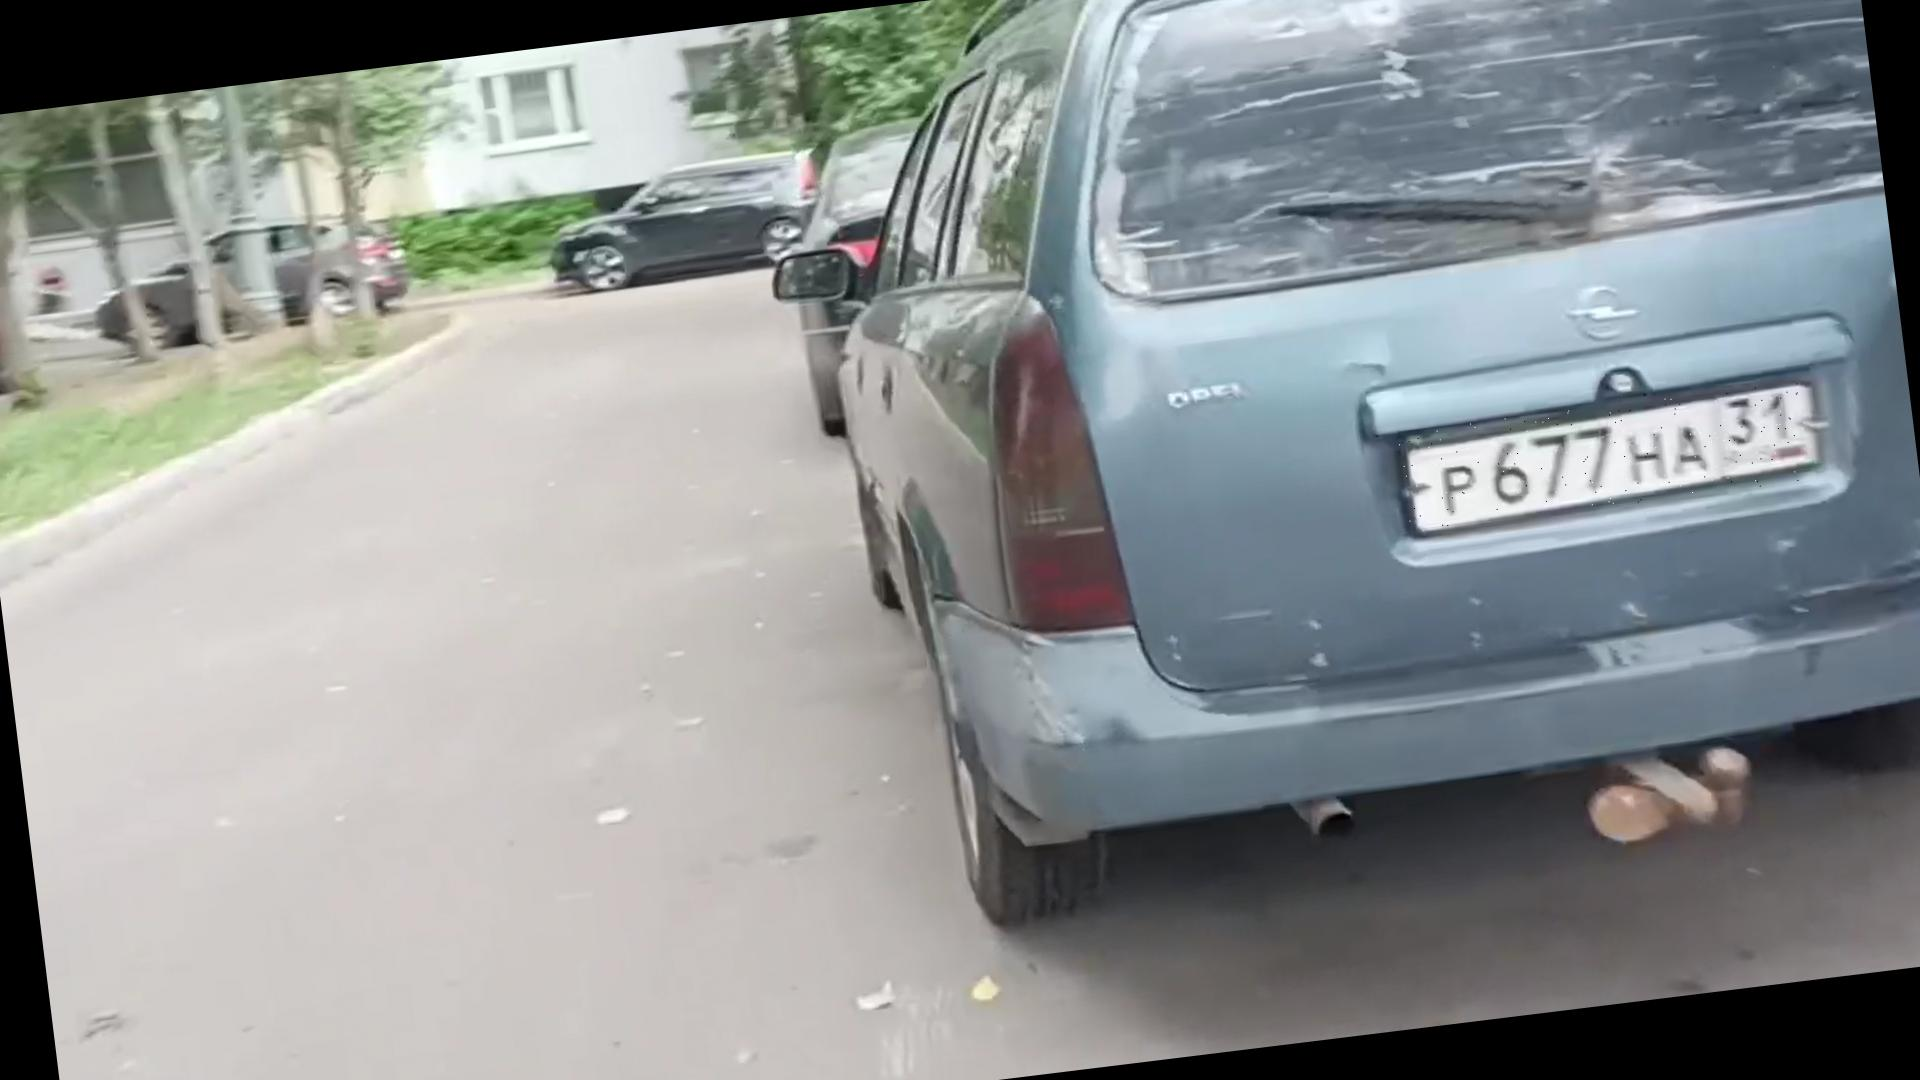plate: (1399, 383, 1818, 532)
